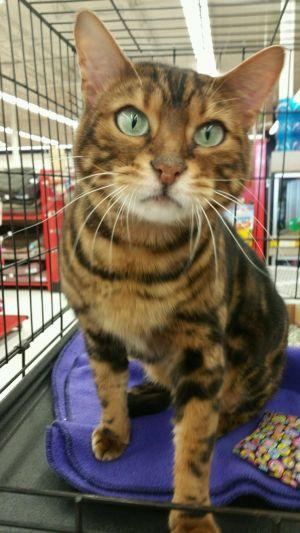bengal: (61, 2, 290, 255)
